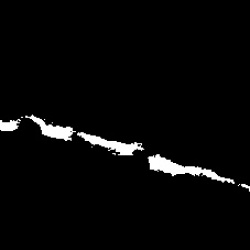crack: (2, 115, 247, 188)
